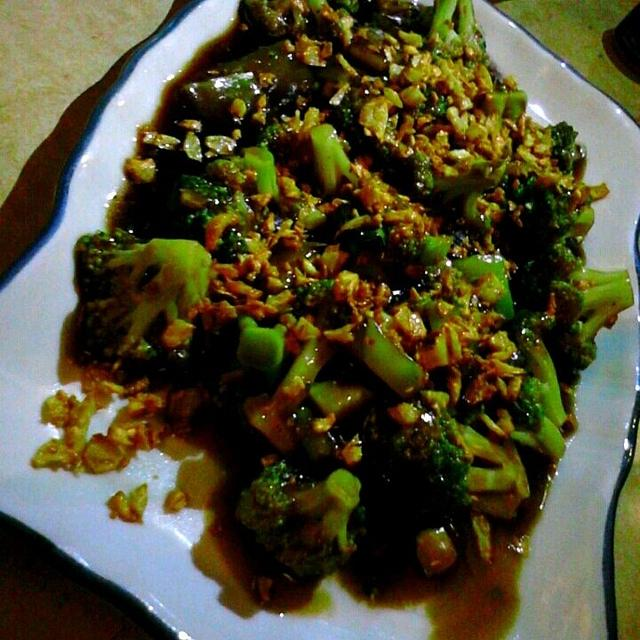broccoli: (65, 229, 216, 389), (362, 408, 530, 549), (310, 123, 454, 267), (235, 462, 363, 608), (492, 177, 584, 315), (550, 258, 634, 376), (342, 310, 428, 398), (420, 157, 510, 241), (507, 309, 567, 428), (238, 0, 352, 52), (450, 254, 516, 323), (428, 2, 491, 70), (212, 40, 314, 82), (510, 393, 566, 459), (235, 315, 288, 376), (292, 278, 352, 330), (307, 380, 372, 420), (240, 147, 282, 204), (292, 406, 334, 462), (546, 121, 587, 177), (492, 88, 526, 134), (294, 192, 328, 232), (217, 228, 250, 259)
